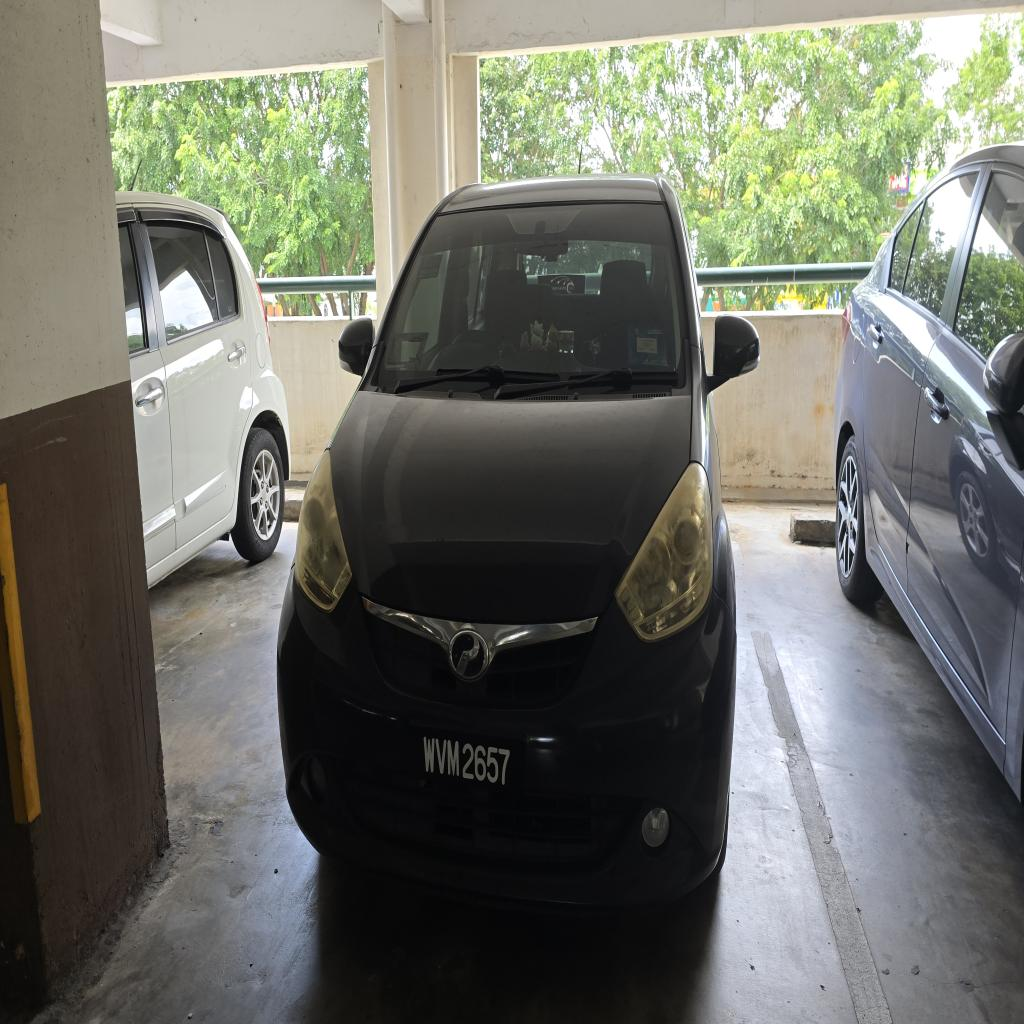car: (278, 176, 758, 905)
car plate: (423, 736, 510, 786)
